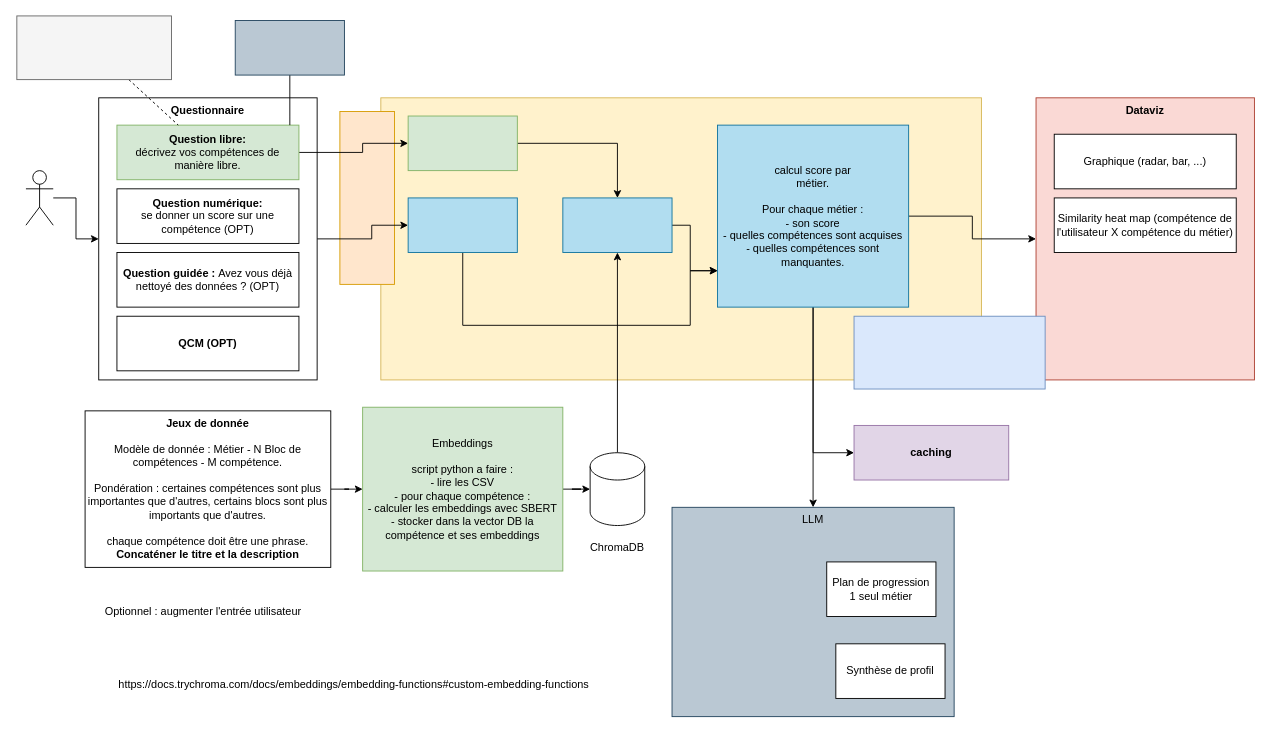
This 1270x733 diagram has some shape labels left out. The shapes that lost their labels are listed below. From the top down, each one's centre as x and y in pixels, then its label:
At (94,47): "Plusieurs cases ? une par compétence ?".
At (289,47): "LLM augmentation entrée (si besoin)".
At (462,143): "Embedding SBERT".
At (39,197): "Utilisateur".
At (366,197): "POST".
At (462,225): "calcul score numérique".
At (617,225): "similarity (ChromaDB query)".
At (949,352): "3 x métier + compétences acquises + compétences manquantes".
